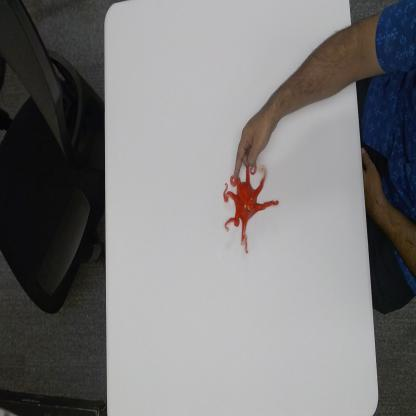Arm: (275, 15, 353, 131)
Hand: (232, 99, 276, 181)
Octopus: (222, 158, 280, 256)
